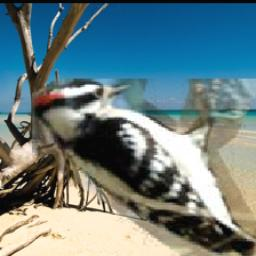Woodpecker: (33, 80, 256, 256)
